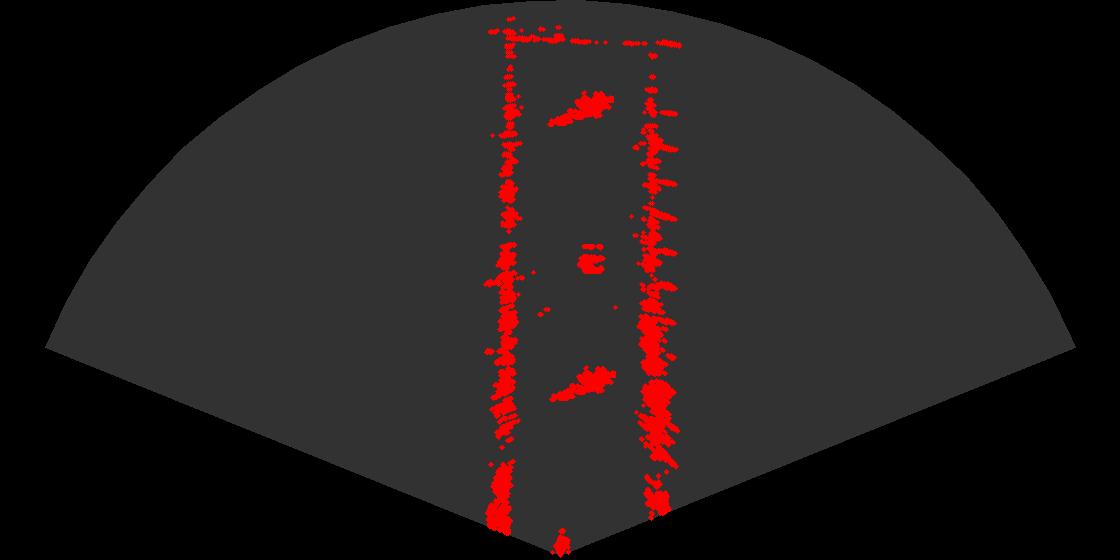ball: (557, 236, 617, 277)
frogman: (546, 84, 614, 131), (548, 359, 616, 406)
